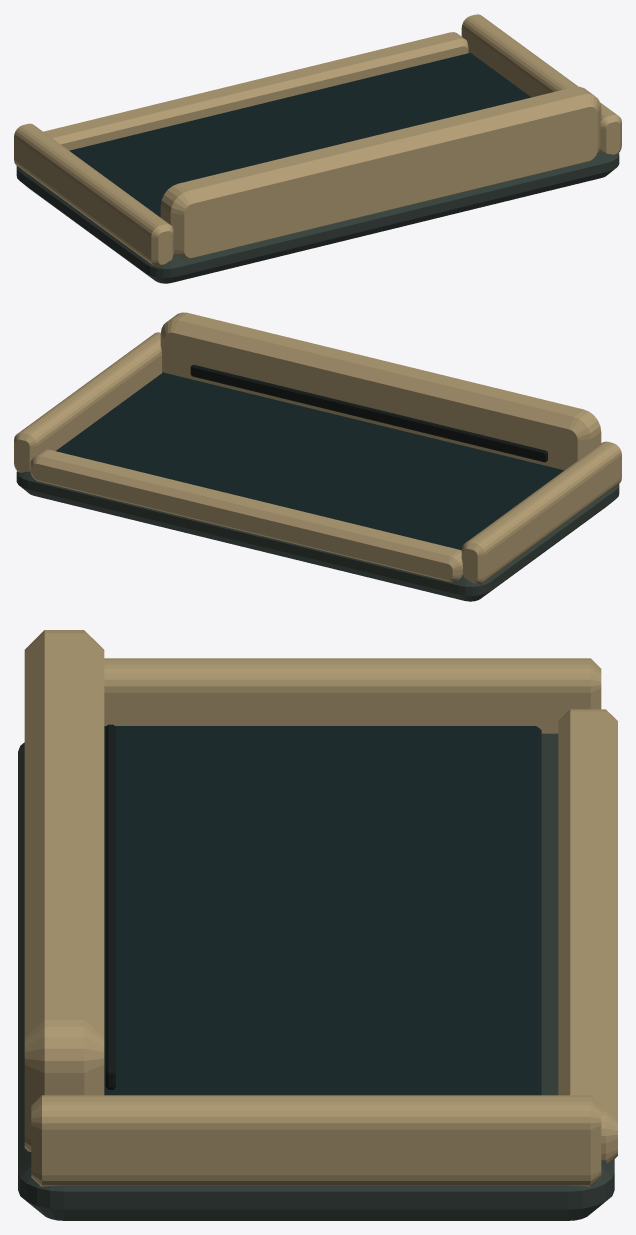
Rendered from scanner_tray.obj.
3 views of the same model, one above another, from view 1: azimuth 30°, elevation 25°; view 2: azimuth 150°, elevation 25°; view 3: azimuth 270°, elevation 25° (orthographic). The views are drawn at different scales.
Parts seen in each view (by area): view 1: rear_feed, scanner_glass, side_rail, tray_base, front_rail; view 2: scanner_glass, rear_feed, front_rail, side_rail, tray_base, feed_slot; view 3: scanner_glass, side_rail, rear_feed, tray_base, front_rail, feed_slot.
Part boxes in pixels (left/top/right/bottom): rear_feed: left=160, top=86, right=601, bottom=258; scanner_glass: left=69, top=53, right=531, bottom=217; side_rail: left=14, top=14, right=621, bottom=266; tray_base: left=16, top=53, right=619, bottom=283; front_rail: left=43, top=32, right=468, bottom=150; scanner_glass: left=56, top=372, right=563, bottom=550; rear_feed: left=160, top=312, right=601, bottom=470; front_rail: left=30, top=449, right=462, bottom=581; side_rail: left=14, top=332, right=621, bottom=584; tray_base: left=16, top=471, right=619, bottom=601; feed_slot: left=190, top=364, right=547, bottom=462; scanner_glass: left=104, top=726, right=541, bottom=1095; side_rail: left=31, top=658, right=601, bottom=1186; rear_feed: left=24, top=630, right=104, bottom=1151; tray_base: left=18, top=733, right=614, bottom=1220; front_rail: left=558, top=709, right=617, bottom=1163; feed_slot: left=105, top=724, right=115, bottom=1089.
Bounding box in the file's own units: 0.82 × 0.145 × 0.4525.
